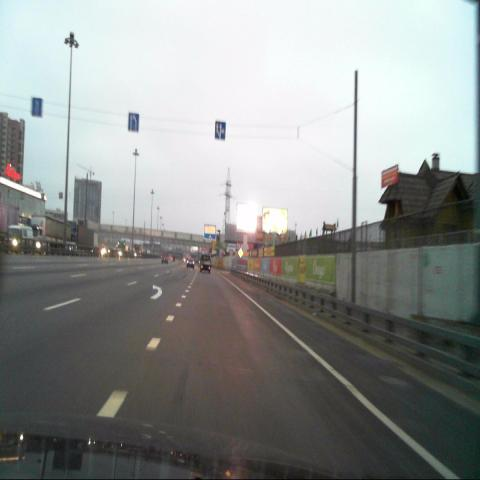5_15_2: (32, 97, 42, 117)
5_15_3: (215, 121, 226, 141)
5_15_5: (128, 114, 139, 132)
